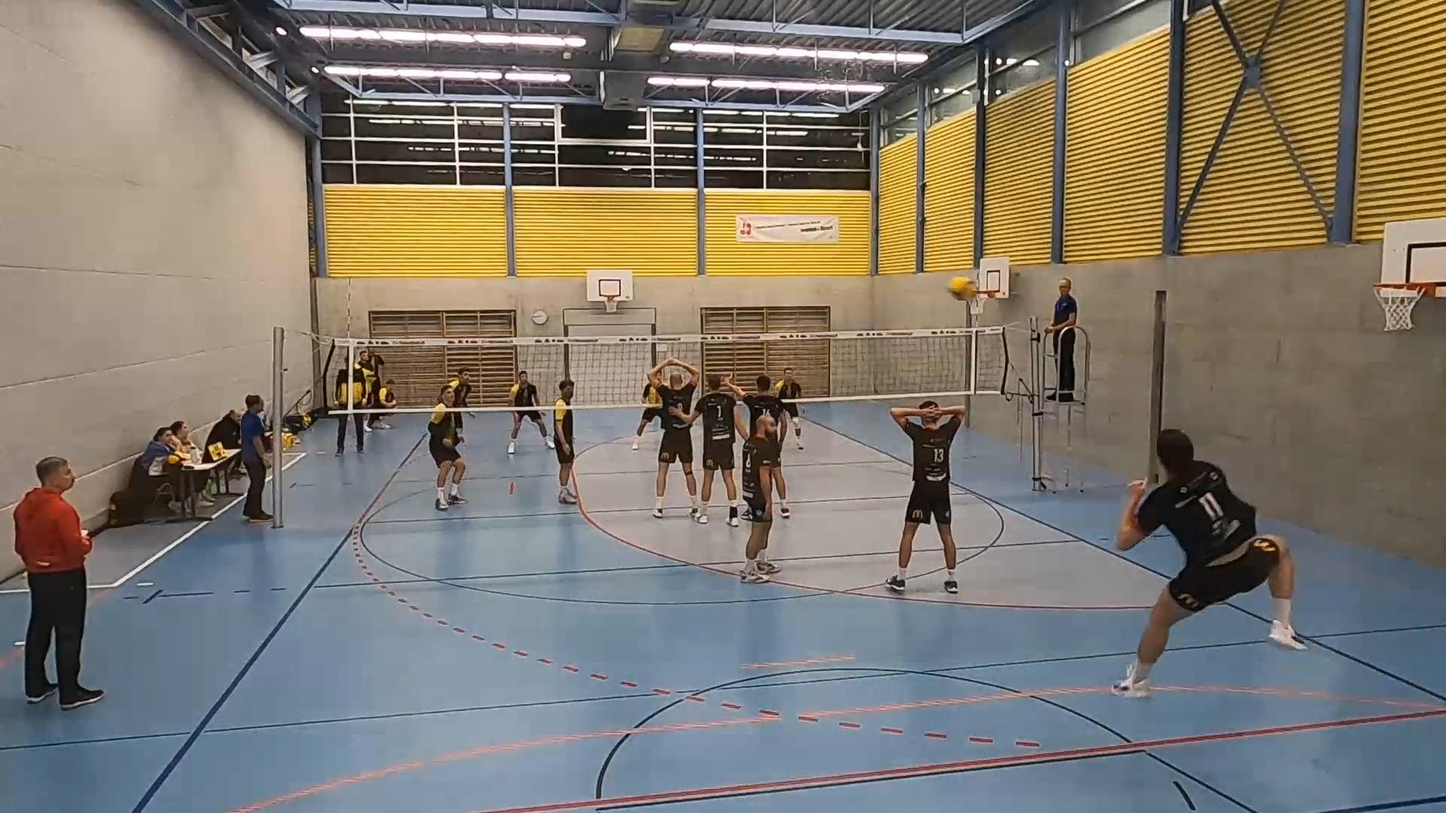Player: (885, 400, 964, 593), (679, 373, 748, 526), (648, 358, 699, 518), (740, 413, 779, 583), (428, 386, 465, 510), (507, 371, 554, 454), (553, 379, 576, 504), (743, 375, 782, 434), (631, 379, 663, 450), (774, 368, 802, 449), (447, 369, 472, 409)
Serve: (1110, 421, 1300, 701)
ball: (947, 276, 977, 297)
